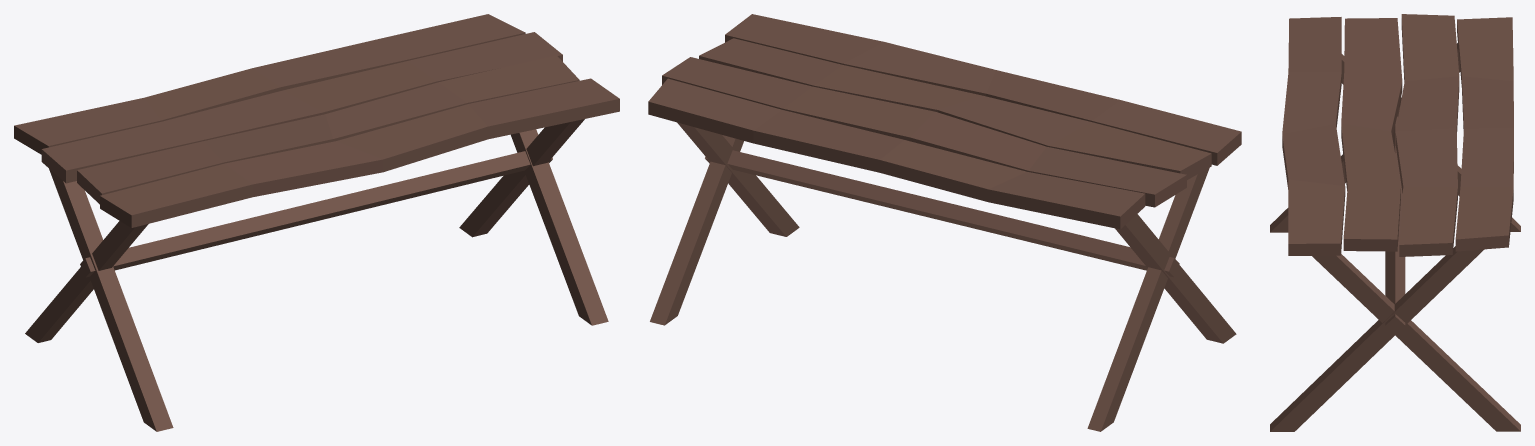
Rendered from WoodenTable_01.fbx.
The picture shows the model from 3 angles, left to right: view 1: azimuth 30°, elevation 25°; view 2: azimuth 150°, elevation 25°; view 3: azimuth 270°, elevation 25°; orthographic projection. The views are drawn at different scales.
Visible parts, largest first — view 1: WoodenTable_01; view 2: WoodenTable_01; view 3: WoodenTable_01.
Boxes of the visible parts, x1,y1,x2,y2 form: WoodenTable_01: [14, 14, 619, 431]; WoodenTable_01: [648, 14, 1241, 431]; WoodenTable_01: [1270, 14, 1520, 431].
Bounding box in the file's own units: 406 × 168 × 189.
